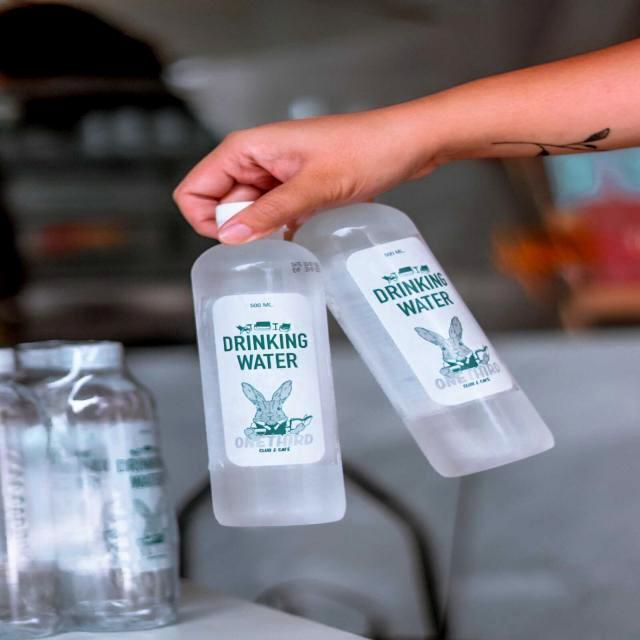bottle: (291, 199, 555, 478), (190, 202, 347, 528), (48, 339, 179, 634)
